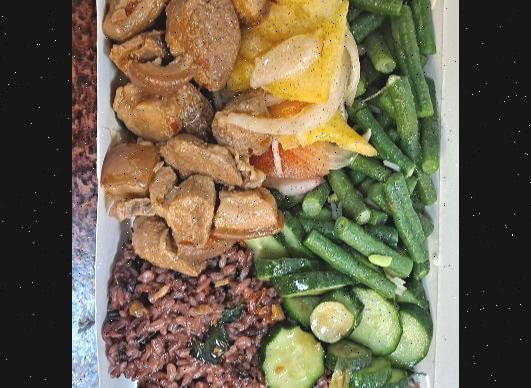big grilled chicken leg: (85, 0, 439, 388)
braised fish: (109, 221, 411, 388)
braised fish fillet: (257, 191, 434, 388), (244, 0, 351, 188), (337, 0, 437, 198)
braised pork: (98, 0, 276, 272)
